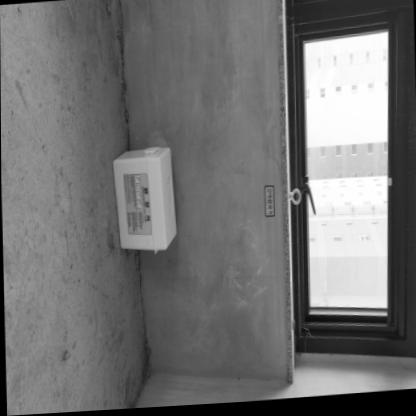DDL: (109, 148, 176, 254)
